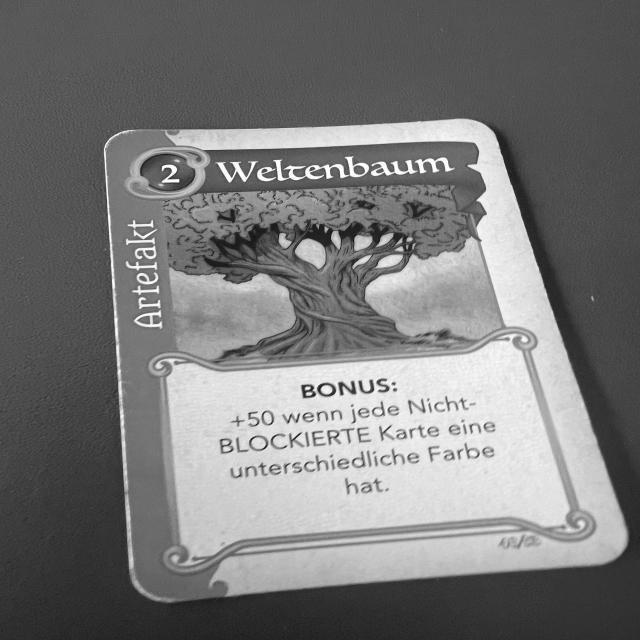World Tree: (96, 116, 638, 617)
